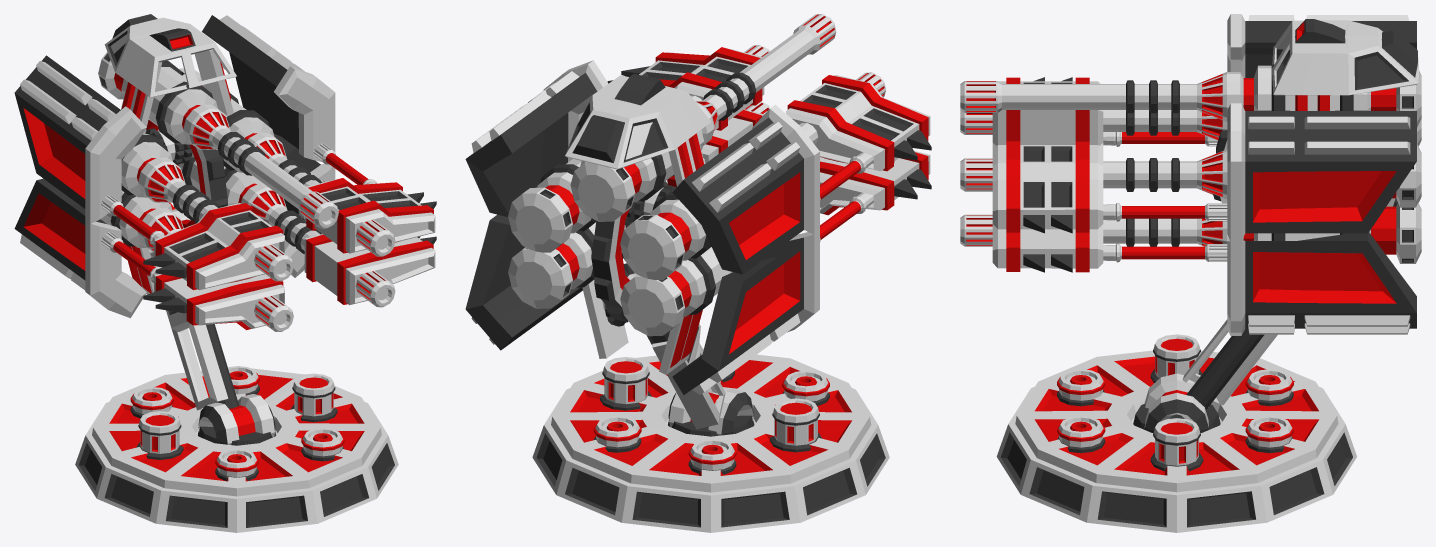
The model's file is mid_tower1_3.fbx.
The picture shows the model from 3 angles, left to right: view 1: azimuth 30°, elevation 25°; view 2: azimuth 150°, elevation 25°; view 3: azimuth 270°, elevation 25°; orthographic projection. The views are drawn at different scales.
Visible parts, largest first — view 1: polySurface186; view 2: polySurface186; view 3: polySurface186.
Boxes of the visible parts, x1,y1,x2,y2 form: polySurface186: (14, 14, 436, 532); polySurface186: (465, 14, 931, 532); polySurface186: (960, 14, 1421, 532).
Size of the model in its own units: 0.677 by 0.8918 by 0.8643.
